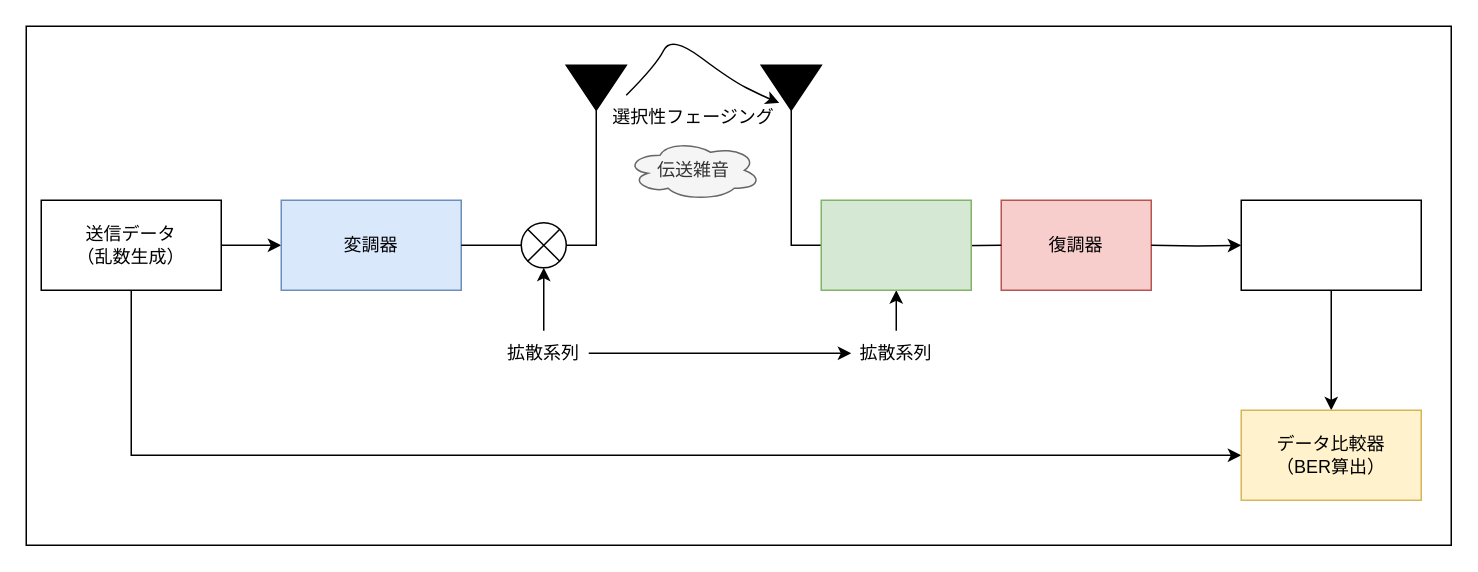
This 1478x572 diagram has some shape labels left out. Here are the shapes that lost their labels. From the top down, the box of each, then its label:
(820, 199, 971, 290): 相関器
(1240, 199, 1421, 290): 受信データ
